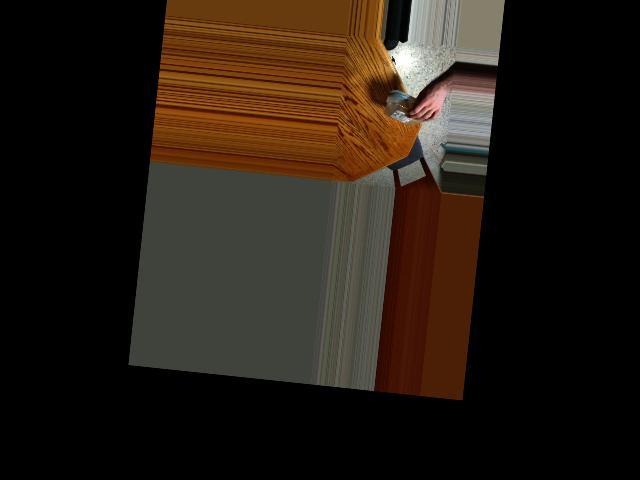cheese: (396, 89, 437, 126)
